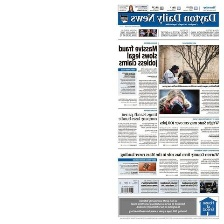news_paper: (116, 0, 223, 224)
